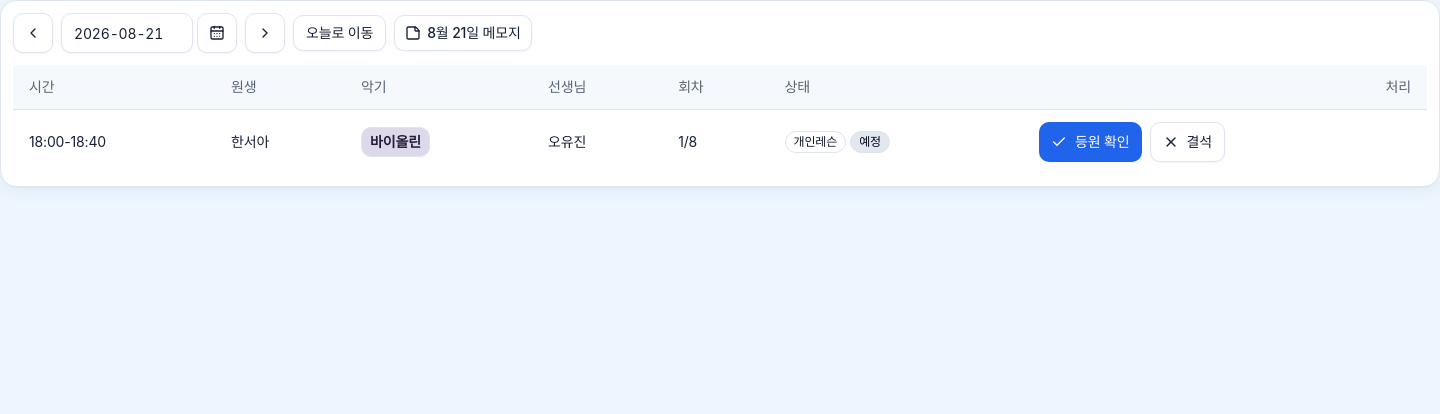
PrivateLessonDayView › 날짜가 바뀌면 열어 둔 사유 입력을 닫는다
Click the button "결석": [1187, 142] box [1150, 122, 1225, 162]
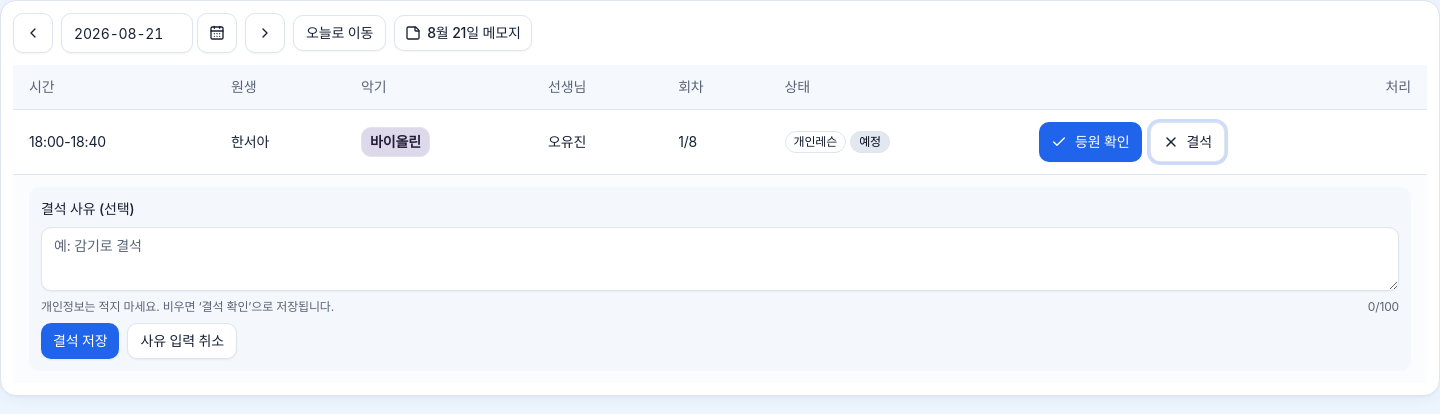
Expected: the text box labelled "결석 사유 (선택)" is shown, [41, 226, 1399, 290]
